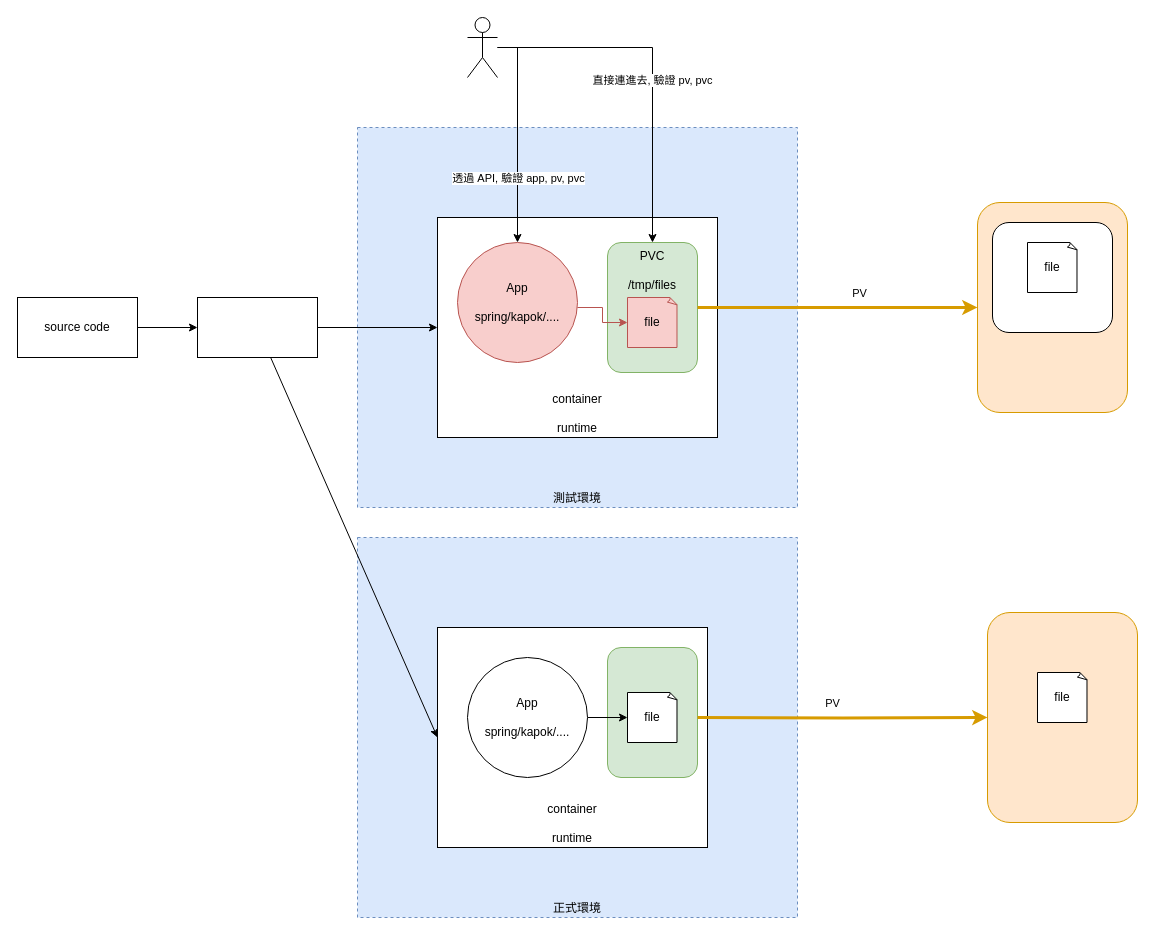
The diagram is 1155 pixels wide and 935 high, and some of its shapes have lost their labels. Here are the shapes that lost their labels. From the top down, the box of each, then its label:
(466, 16, 498, 78): Actor
(992, 222, 1112, 332): /var/nfs/test
(196, 296, 318, 358): image binary
(976, 202, 1128, 412): NFS ex: 192.168.1.55 儲存設備/機制
(606, 646, 698, 778): PVC
(986, 612, 1138, 822): AWS
